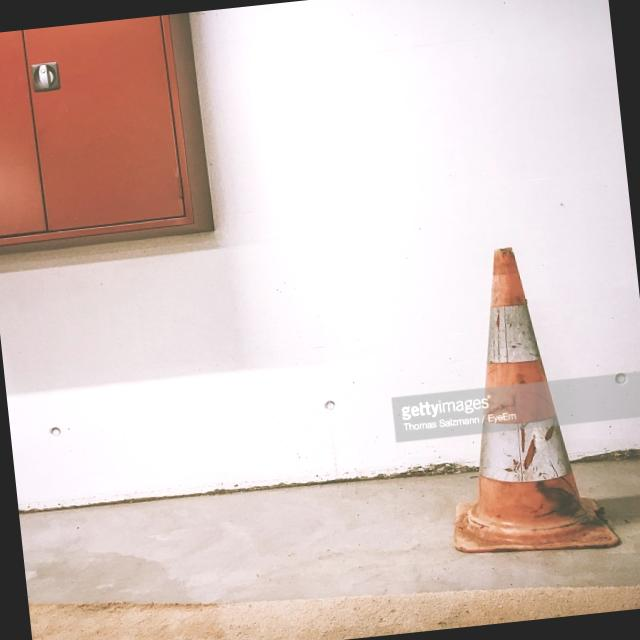cone: (377, 204, 620, 586)
